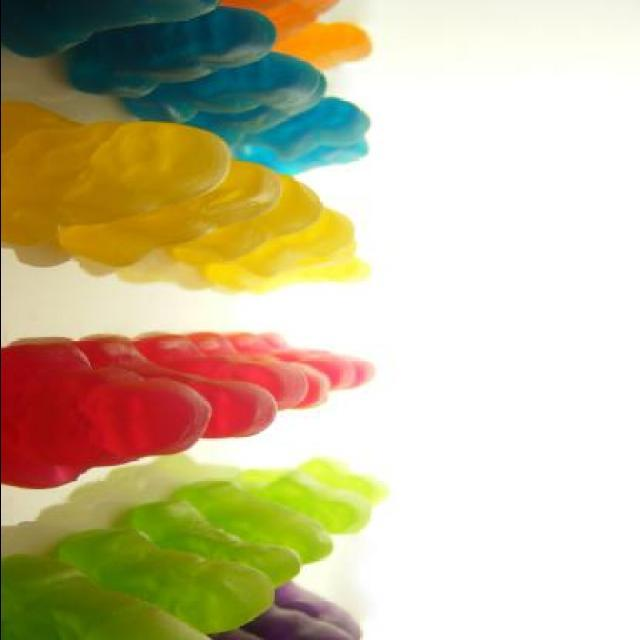Candy: (0, 99, 233, 243), (0, 346, 211, 491), (51, 157, 287, 271), (55, 528, 277, 638), (73, 333, 276, 441), (74, 7, 277, 98), (1, 554, 212, 638), (122, 500, 306, 588), (171, 479, 340, 564), (167, 172, 325, 262), (136, 332, 313, 412), (1, 0, 221, 62), (127, 51, 319, 120), (208, 206, 356, 286), (195, 335, 332, 407), (228, 93, 374, 156), (227, 334, 376, 392), (220, 581, 366, 640), (238, 472, 372, 536), (242, 452, 390, 506), (276, 18, 374, 74), (219, 0, 343, 42), (256, 138, 372, 174)
